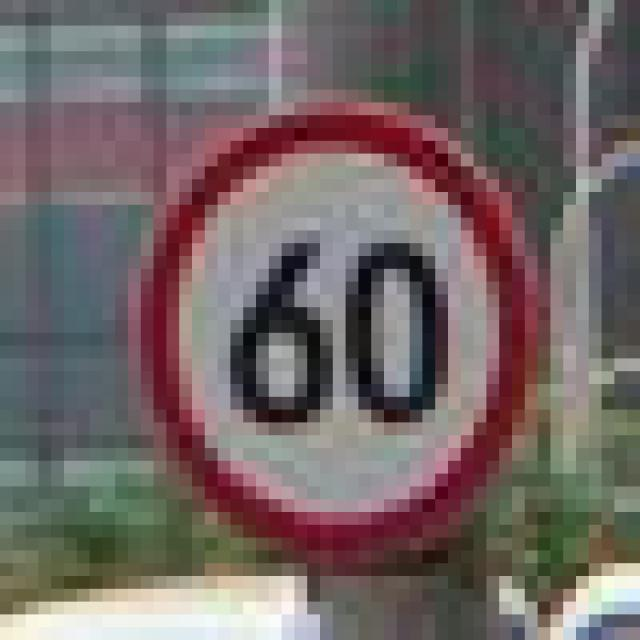SPEED_LIMIT_60: (115, 90, 538, 563)
